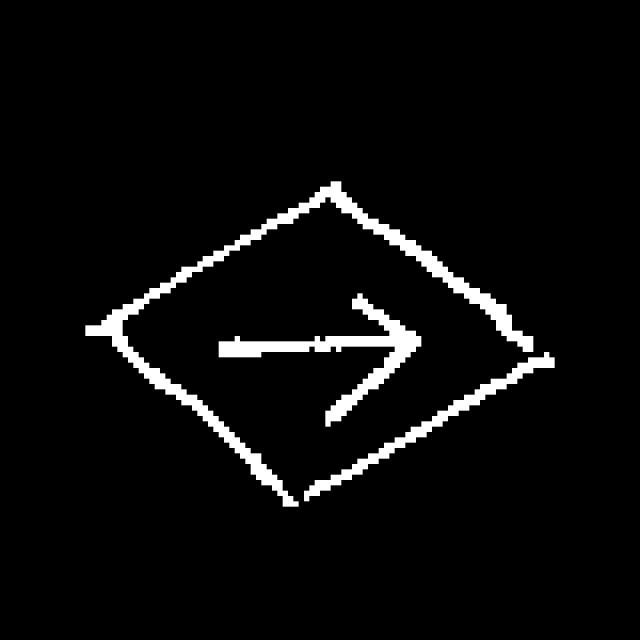dependant_current: (112, 180, 539, 512)
